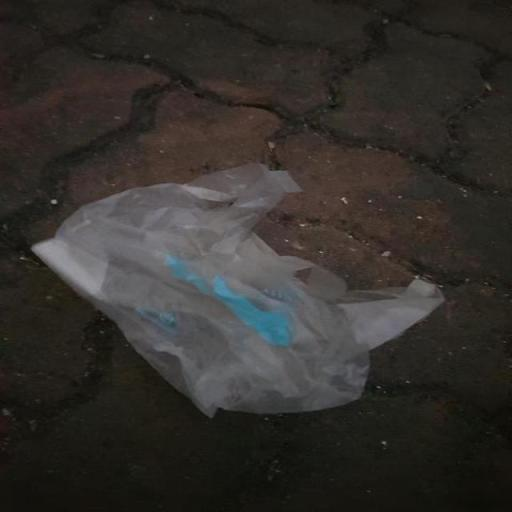plastic-bag: (25, 154, 452, 420)
